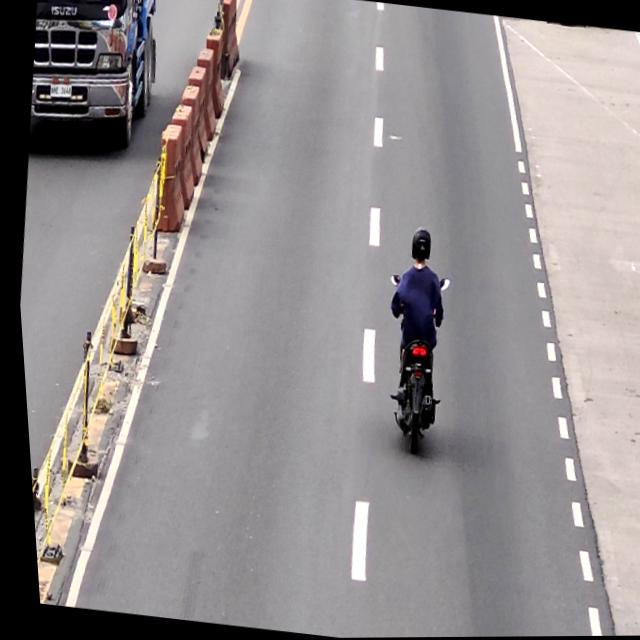Motorcycle: (365, 269, 455, 457)
